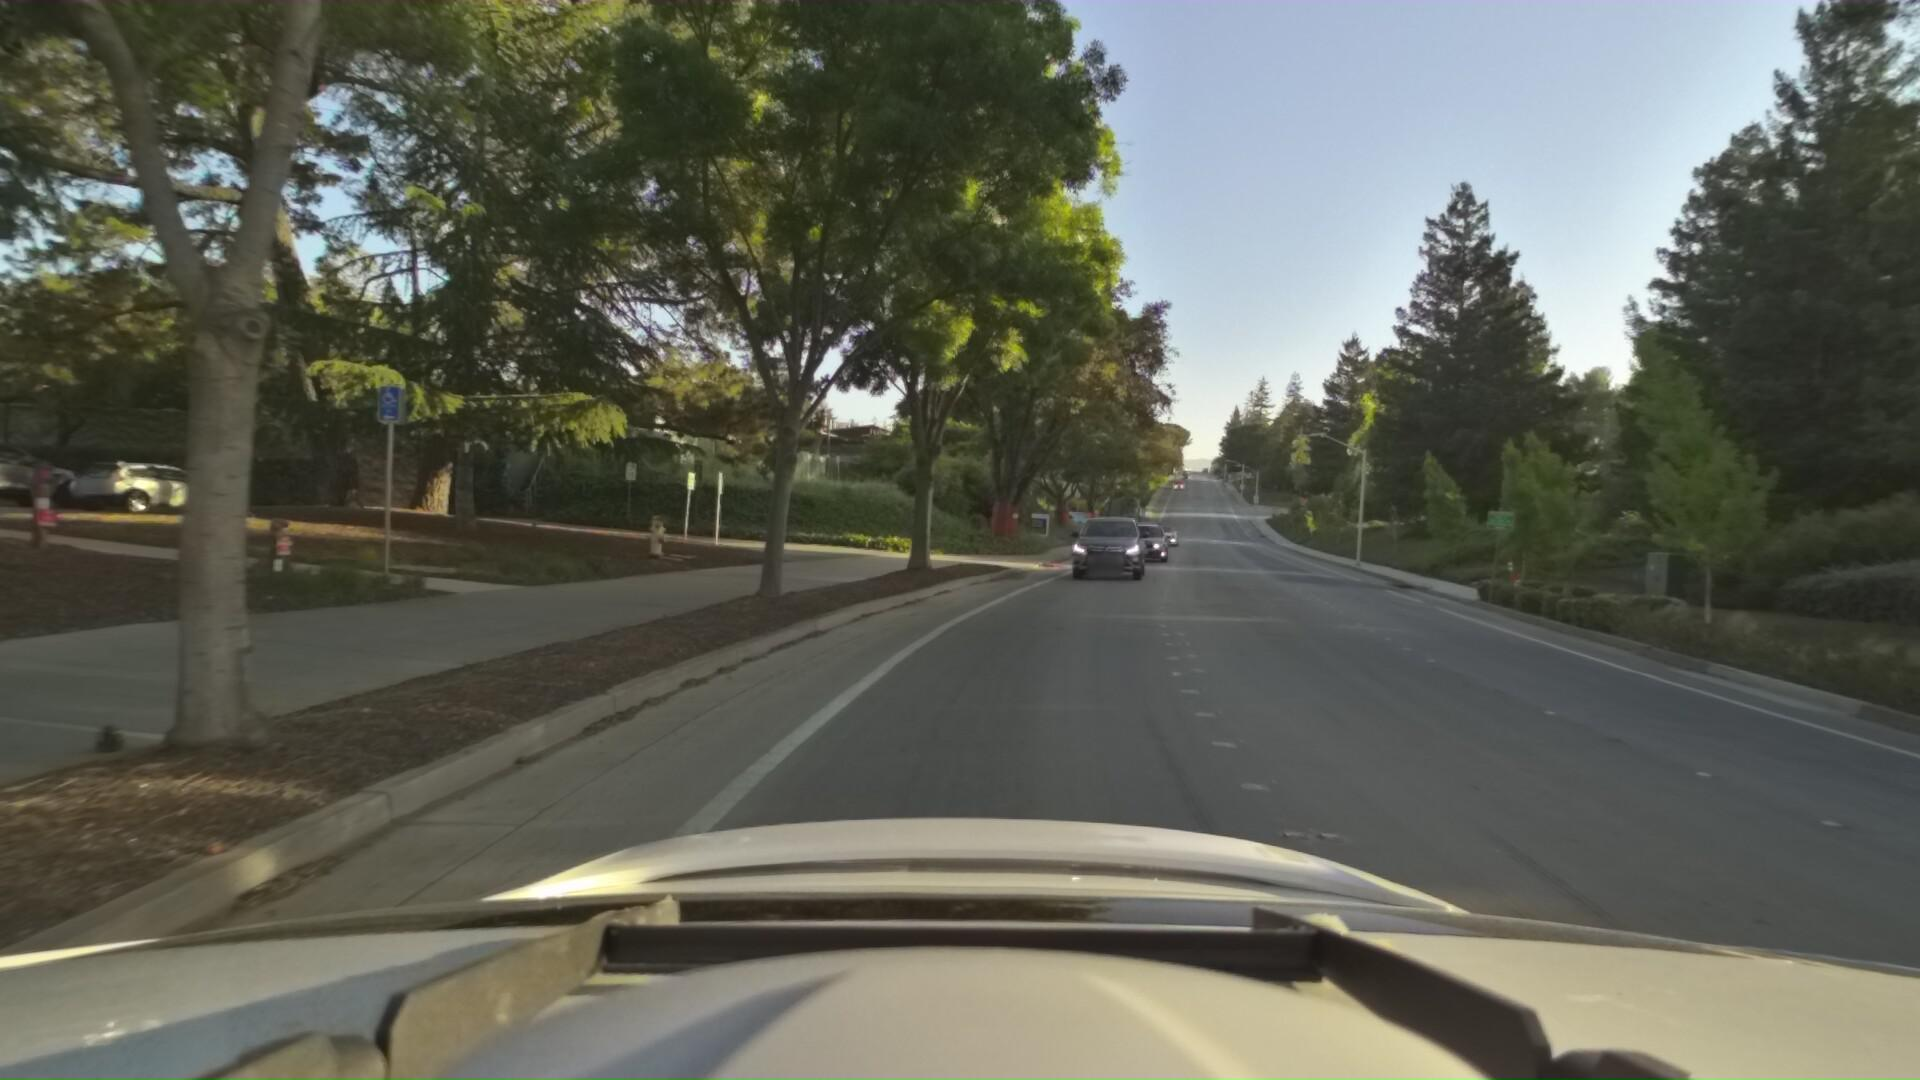car: (1065, 504, 1154, 582), (1122, 512, 1182, 562), (1151, 520, 1193, 545)
